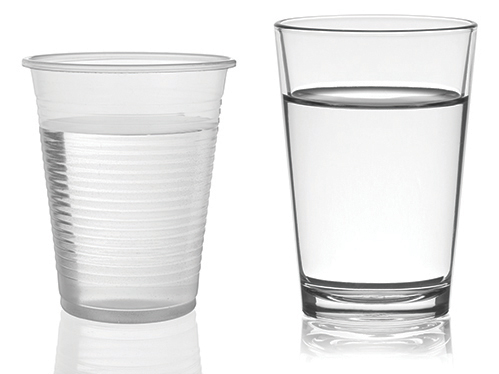plastic_glass: (269, 10, 483, 325), (16, 47, 239, 331)
